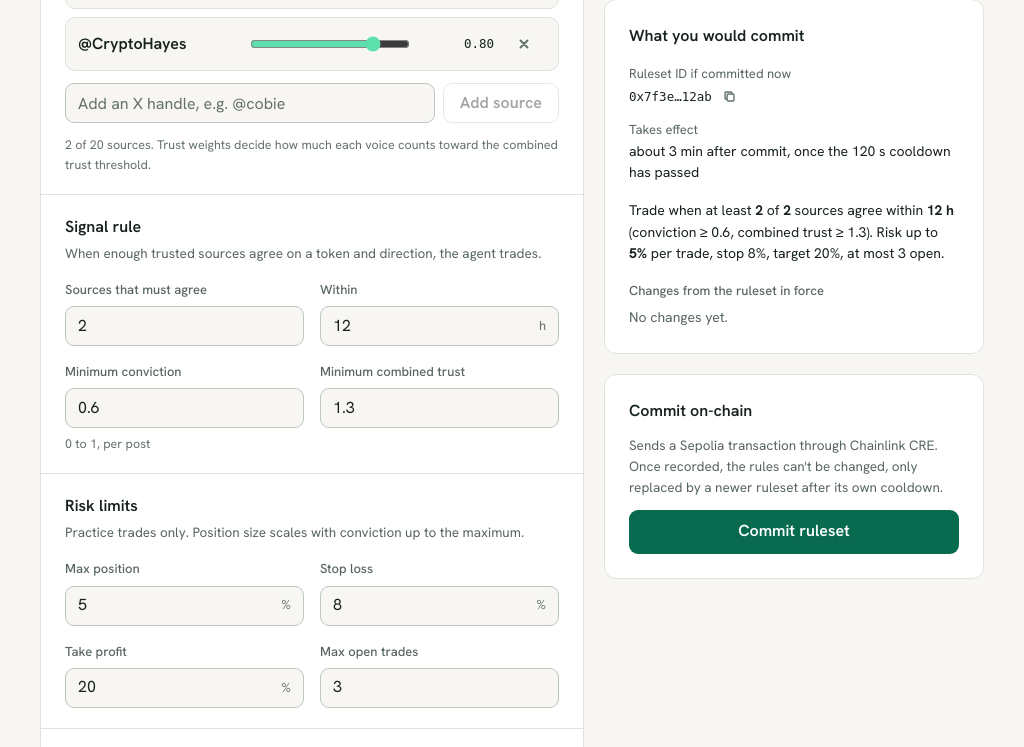
Test: Compose › shows the API's refusal when the commit fails
(page scrolled)
Click the button "Commit ruleset". click: point(794, 531)
box: [629, 509, 959, 553]
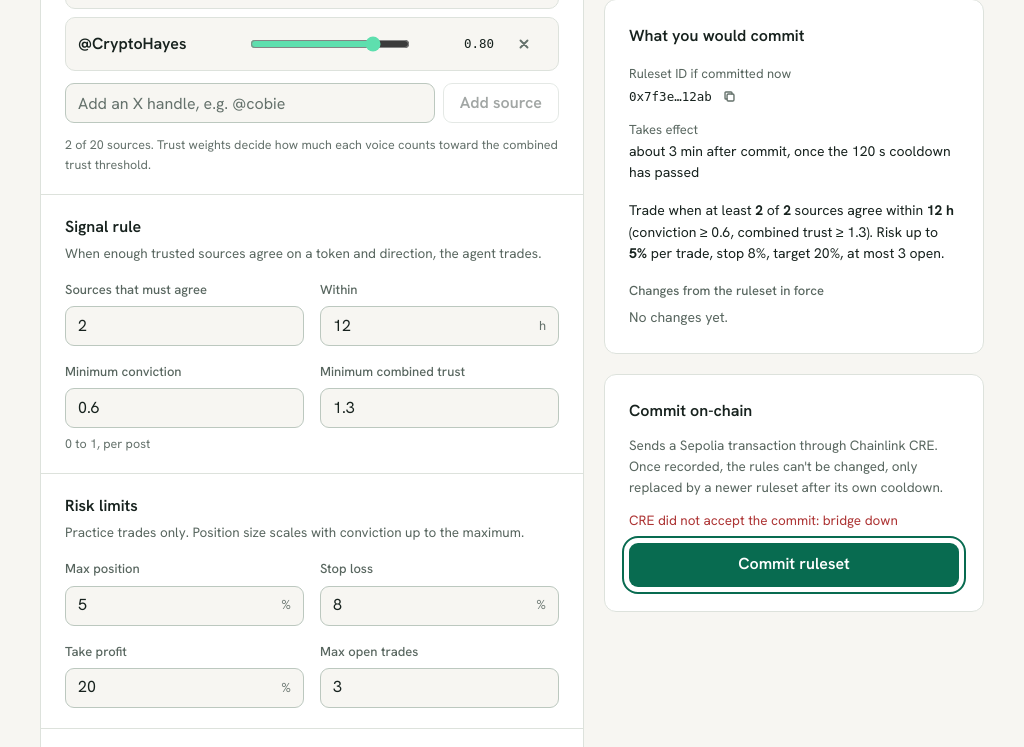
Check: the message reads "CRE did not accept the commit: bridge down", box [629, 510, 898, 528]
